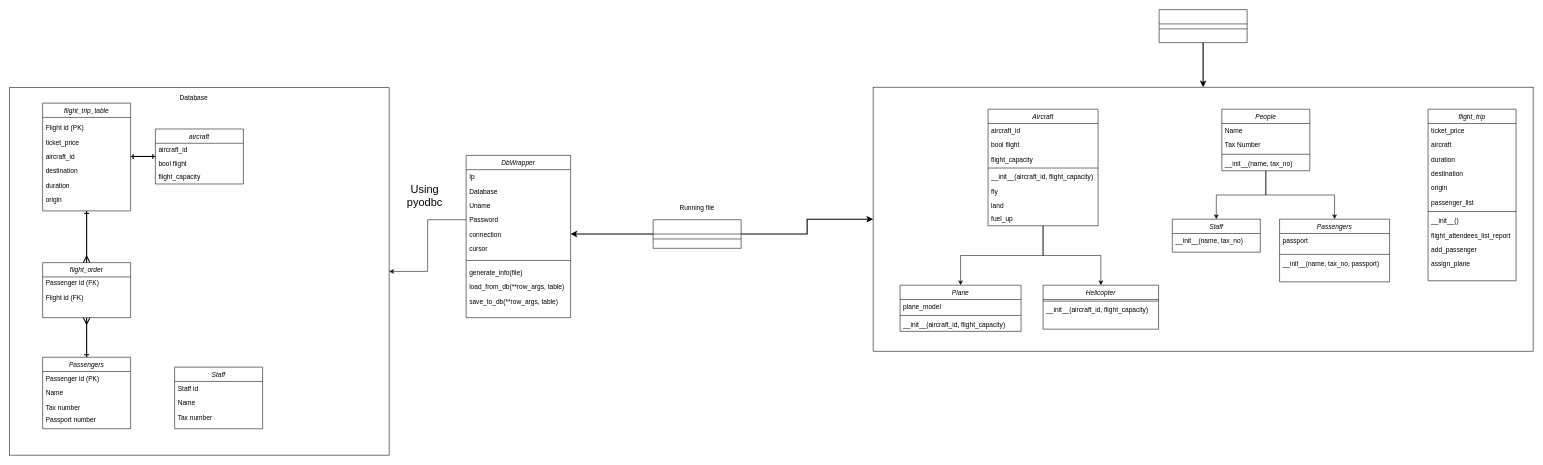
This 1543x465 diagram has some shape labels left out. The shapes that lost their labels are listed below. From the top down, each one's centre as x and y in pixels, then its label:
At [1203,26]: "Tests".
At [697,233]: "Terminal".
